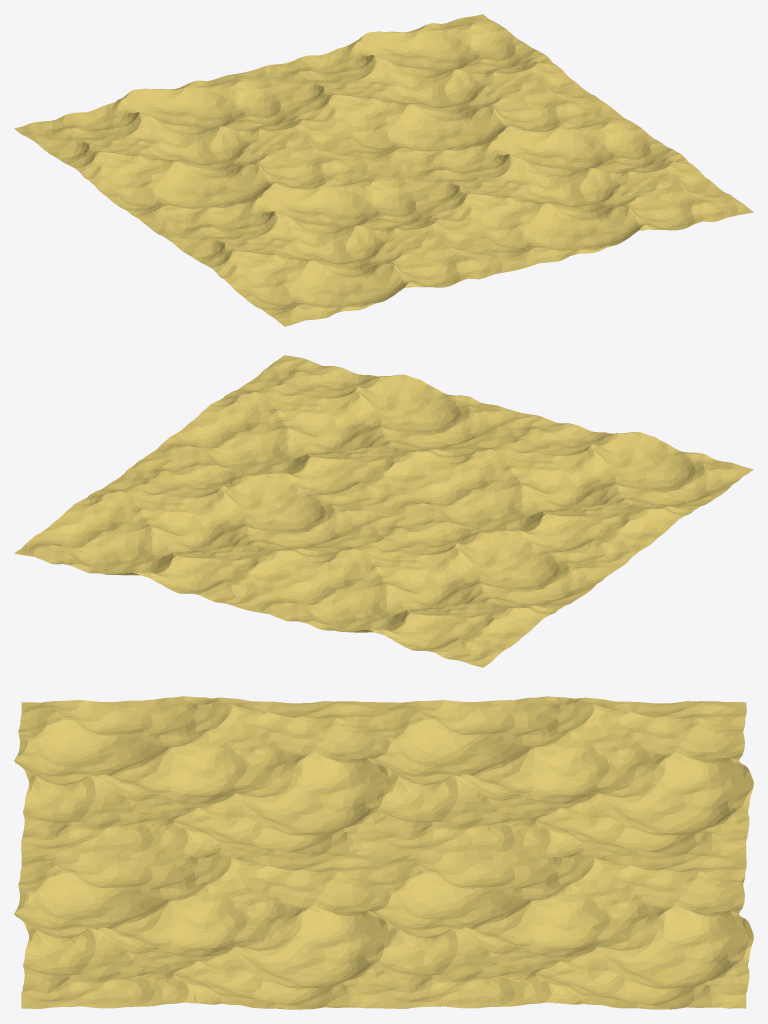
Rendered from desertDunes1.fbx.
3 views of the same model, one above another, from view 1: azimuth 30°, elevation 25°; view 2: azimuth 150°, elevation 25°; view 3: azimuth 270°, elevation 25° (orthographic). The views are drawn at different scales.
Visible parts, largest first — view 1: desert1; view 2: desert1; view 3: desert1.
Boxes of the visible parts, bbox=[...] form: desert1: bbox=[14, 14, 753, 326]; desert1: bbox=[14, 355, 753, 667]; desert1: bbox=[14, 696, 753, 1009].
Size of the model in its own units: 101 by 4.55 by 102.
